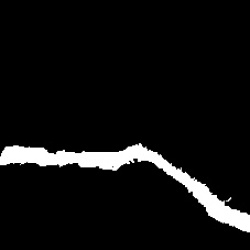crack: (4, 143, 250, 233)
